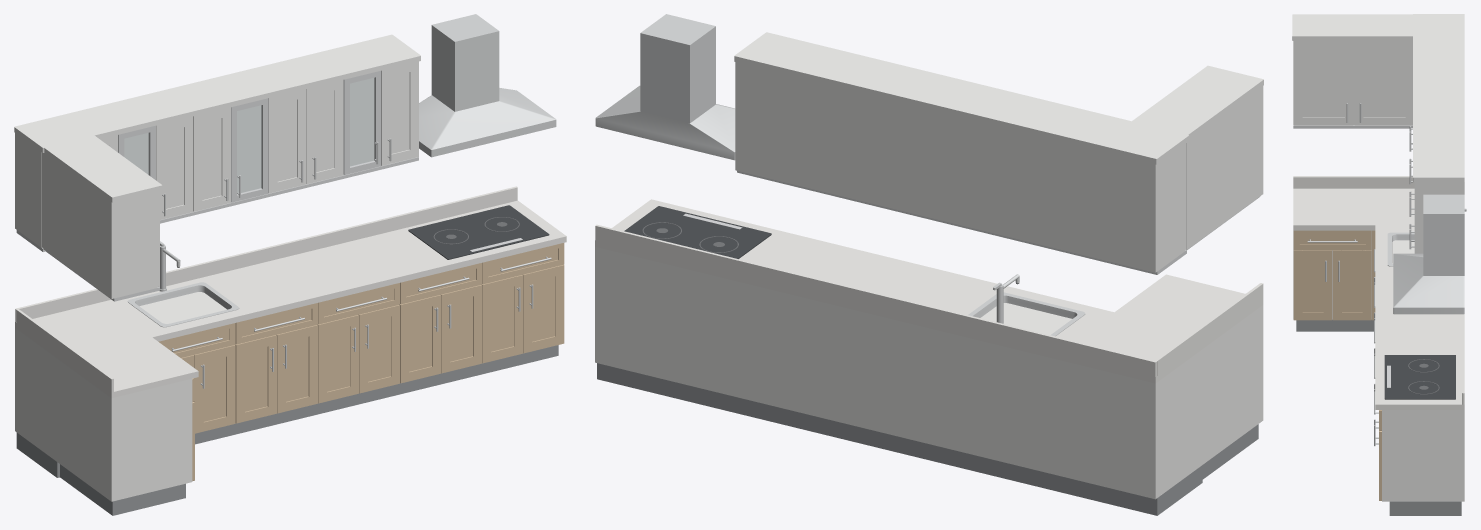
3 views of the same model, side by side, from view 1: azimuth 30°, elevation 25°; view 2: azimuth 150°, elevation 25°; view 3: azimuth 270°, elevation 25° (orthographic). The views are drawn at different scales.
Parts seen in each view (by area): view 1: Tủ bếp chữ L Dài cạnh chính=3600; Dài cạnh phụ=1200; Sâu tủ ; view 2: Tủ bếp chữ L Dài cạnh chính=3600; Dài cạnh phụ=1200; Sâu tủ ; view 3: Tủ bếp chữ L Dài cạnh chính=3600; Dài cạnh phụ=1200; Sâu tủ .
Boxes of the visible parts, x1,y1,x2,y2 form: Tủ bếp chữ L Dài cạnh chính=3600; Dài cạnh phụ=1200; Sâu tủ : [14, 14, 566, 515]; Tủ bếp chữ L Dài cạnh chính=3600; Dài cạnh phụ=1200; Sâu tủ : [595, 14, 1263, 515]; Tủ bếp chữ L Dài cạnh chính=3600; Dài cạnh phụ=1200; Sâu tủ : [1292, 14, 1466, 515].
Bounding box in the file's own units: 3.61 × 2.2 × 1.22.
